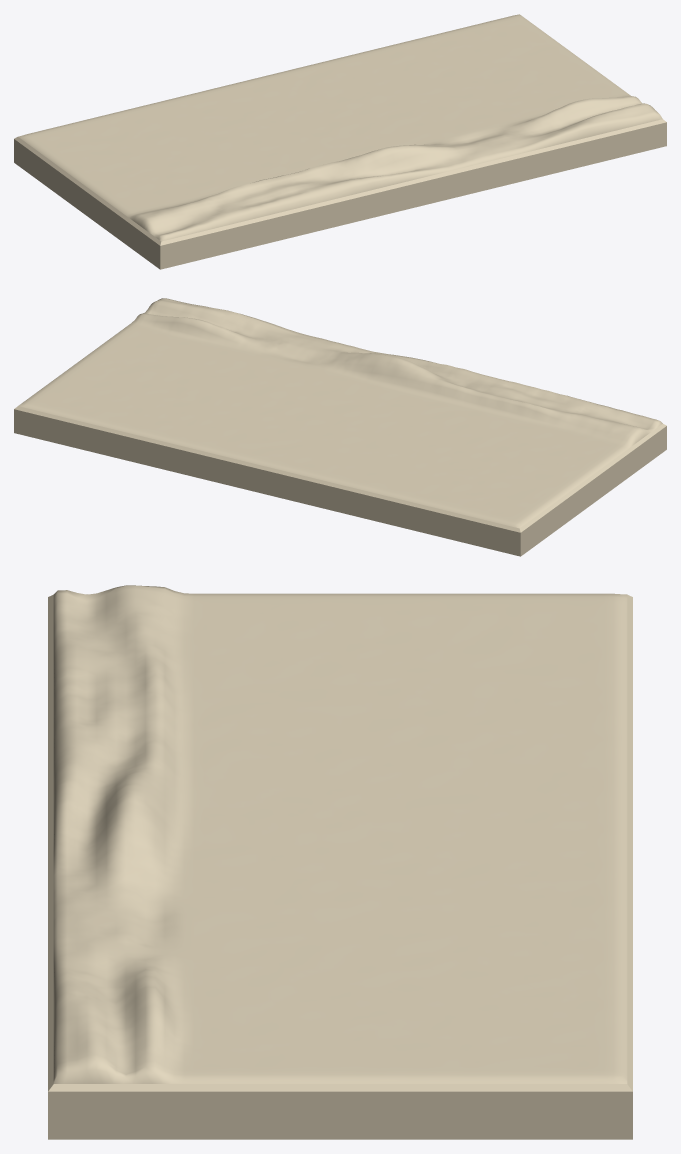
File: mahsulot.glb
3 views of the same model, one above another, from view 1: azimuth 30°, elevation 25°; view 2: azimuth 150°, elevation 25°; view 3: azimuth 270°, elevation 25° (orthographic). The views are drawn at different scales.
Parts seen in each view (by area): view 1: mahsulot; view 2: mahsulot; view 3: mahsulot.
Part boxes in pixels (x1,y1,x2,y2): mahsulot: (14,14,666,269); mahsulot: (14,298,666,556); mahsulot: (48,585,632,1139).
Size of the model in its own units: 0.3 by 0.0258 by 0.15.
